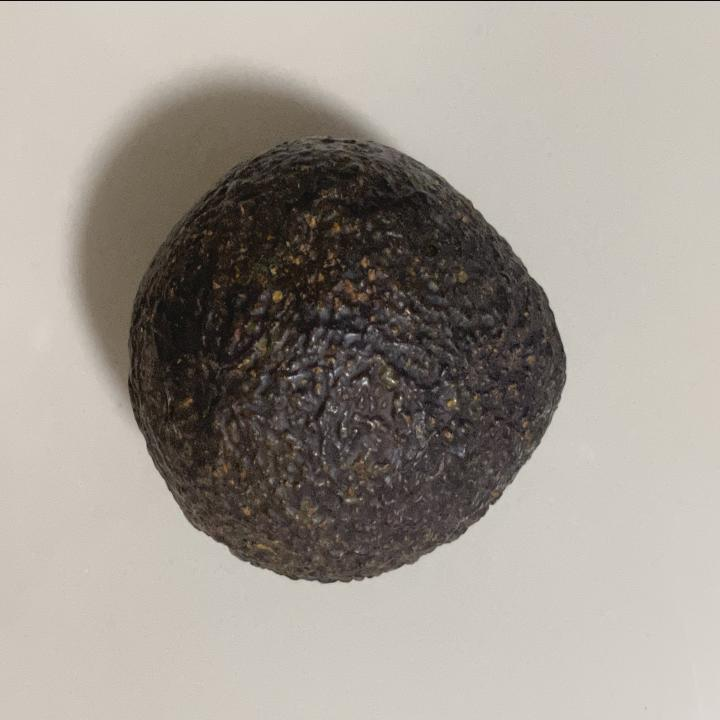Level2: (122, 129, 576, 593)
